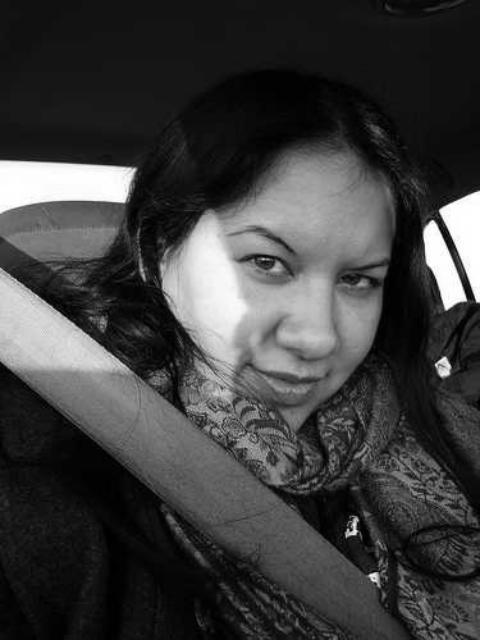SafeDriving: (227, 236, 301, 284), (322, 254, 395, 300)
Seatbelt: (0, 255, 418, 640)
